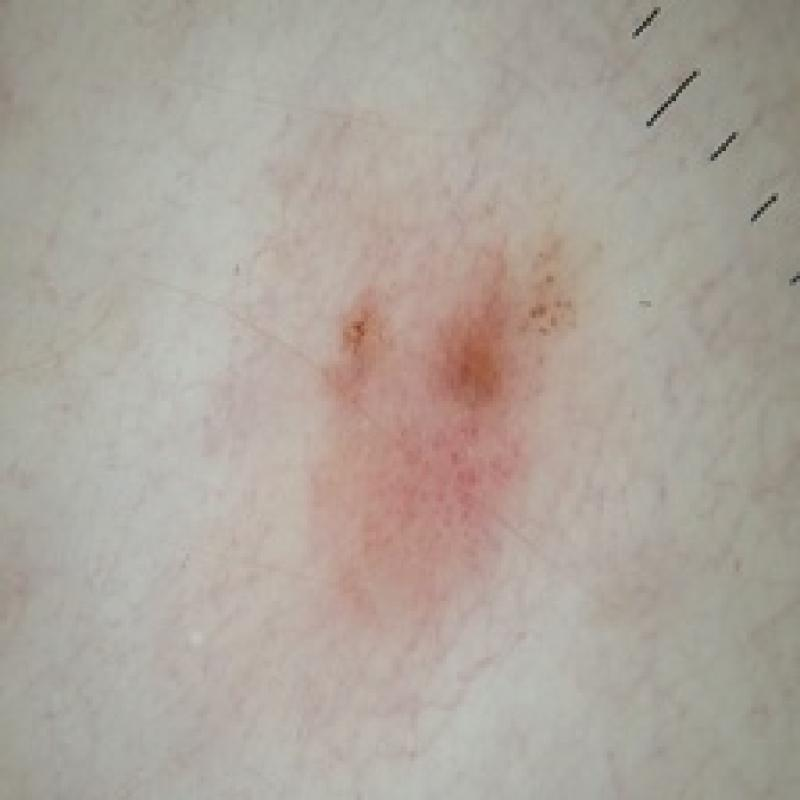malignant: (288, 193, 614, 674)
